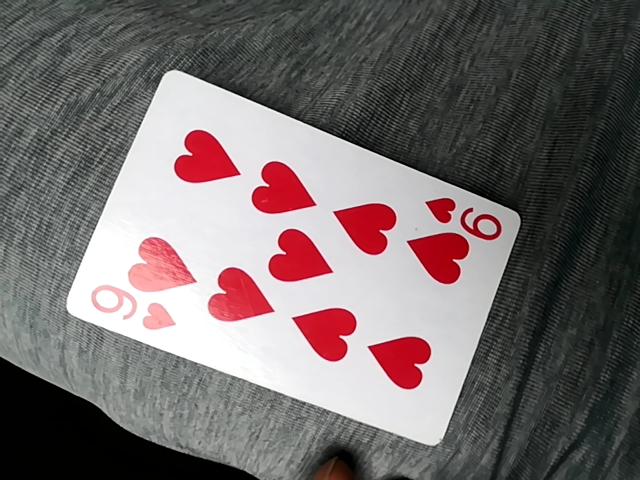hx 9: (68, 69, 528, 448)
